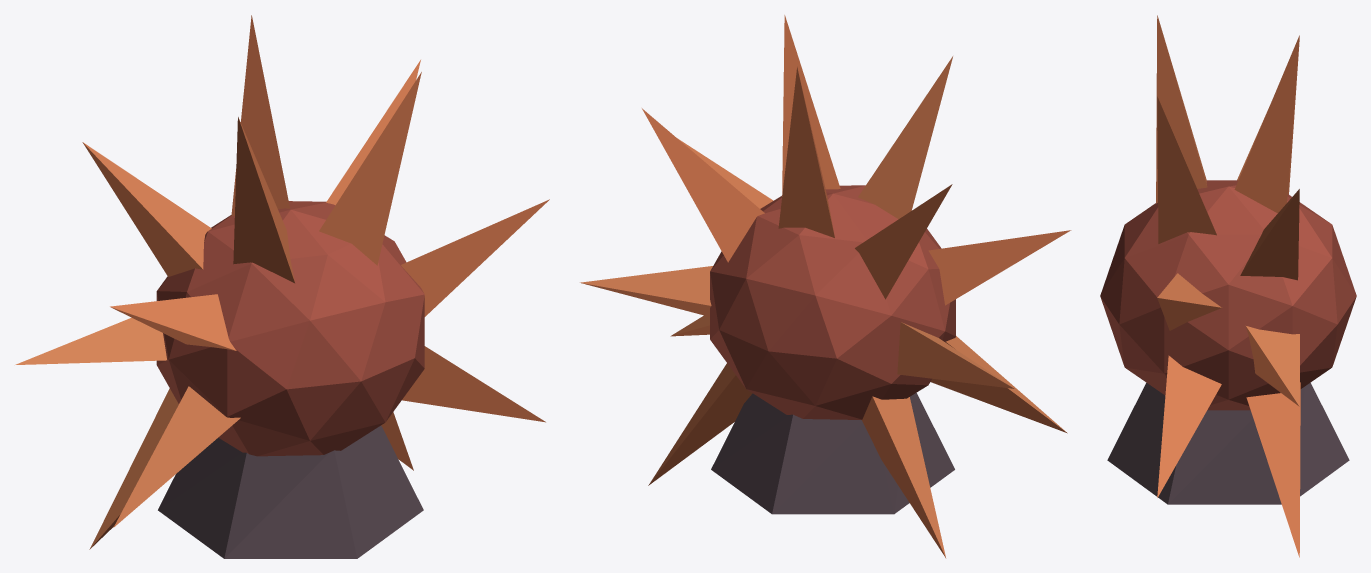
The model's file is erizo_coralino.glb.
The picture shows the model from 3 angles, left to right: view 1: azimuth 30°, elevation 25°; view 2: azimuth 150°, elevation 25°; view 3: azimuth 270°, elevation 25°; orthographic projection. The views are drawn at different scales.
Visible parts, largest first — view 1: erizo_coralino; view 2: erizo_coralino; view 3: erizo_coralino.
Boxes of the visible parts, x1,y1,x2,y2 form: erizo_coralino: (15,15,549,558); erizo_coralino: (580,15,1071,558); erizo_coralino: (1100,15,1356,557).
Size of the model in its own units: 1.4 by 1.4 by 0.72.
